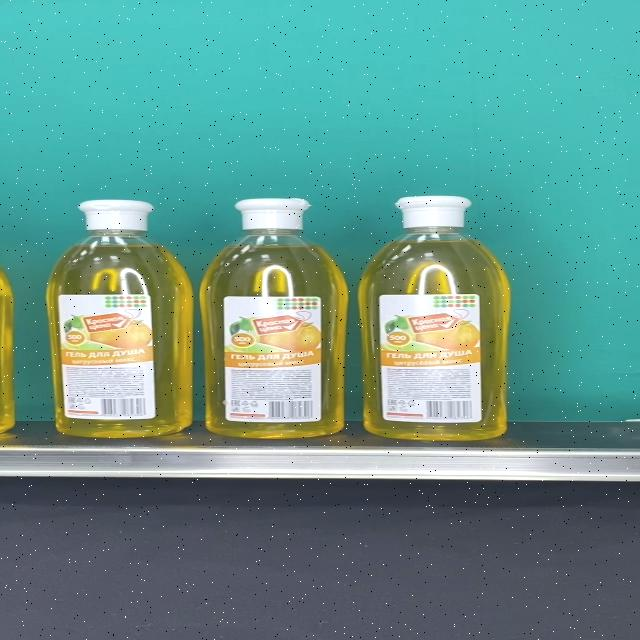Bottle: (358, 195, 511, 441), (201, 198, 349, 438), (45, 200, 194, 437)
Cap: (393, 196, 473, 228), (234, 198, 312, 230), (77, 200, 153, 232)
